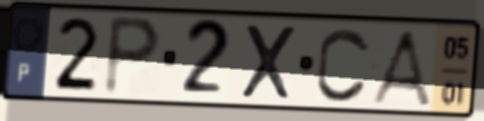2: (177, 16, 236, 104), (52, 15, 104, 96)
A: (365, 27, 435, 109)
C: (313, 24, 373, 106)
P: (100, 12, 165, 99)
X: (238, 21, 299, 103)
